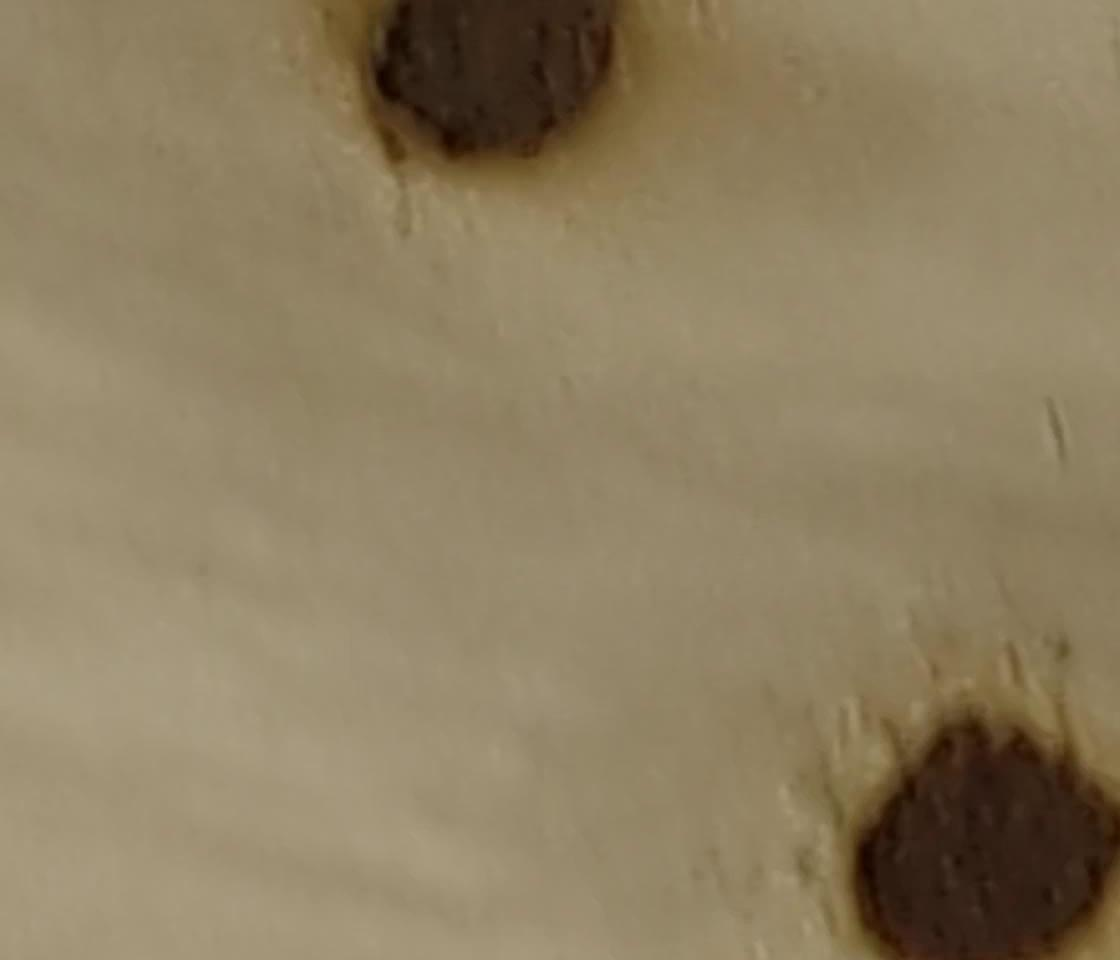rust: (824, 709, 1107, 951), (331, 1, 630, 165)
